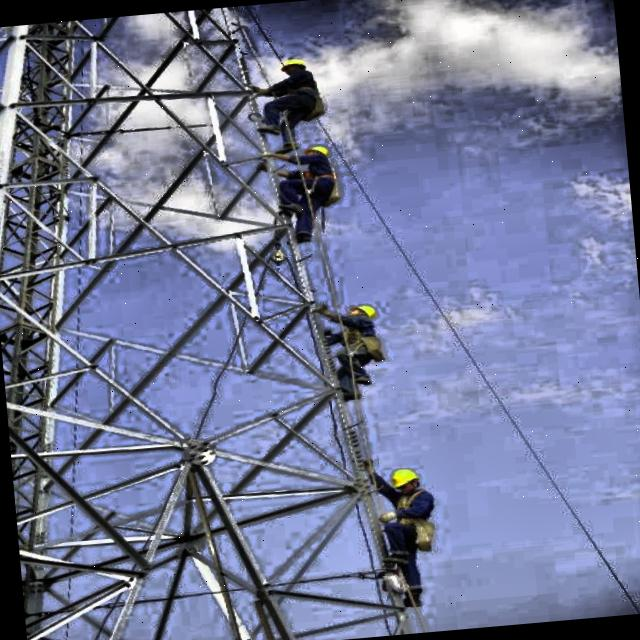helmet: (388, 466, 422, 498), (296, 140, 334, 168), (342, 303, 381, 327), (280, 52, 310, 80)
